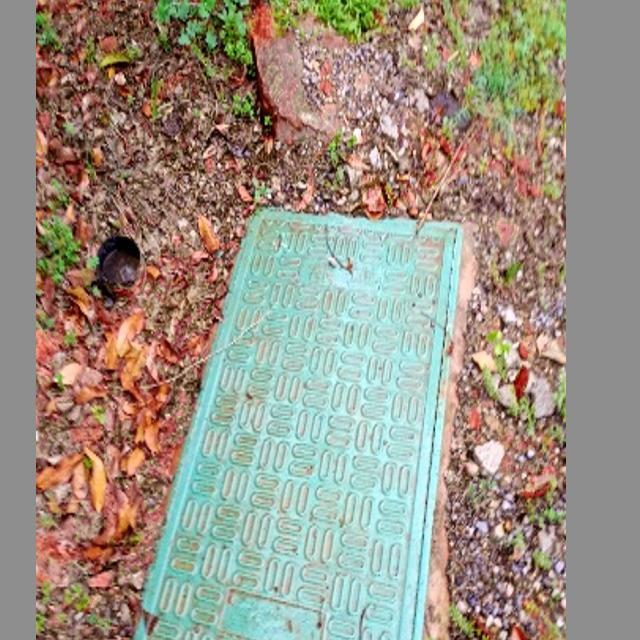good: (115, 205, 466, 640)
